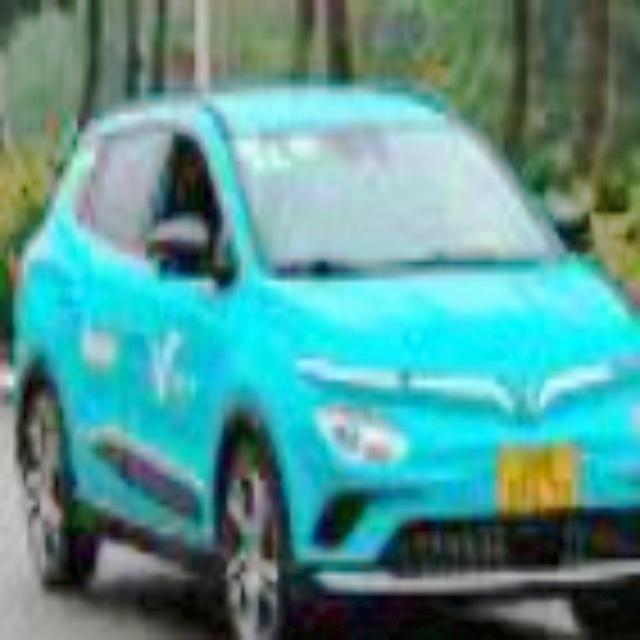Car: (9, 80, 639, 639)
